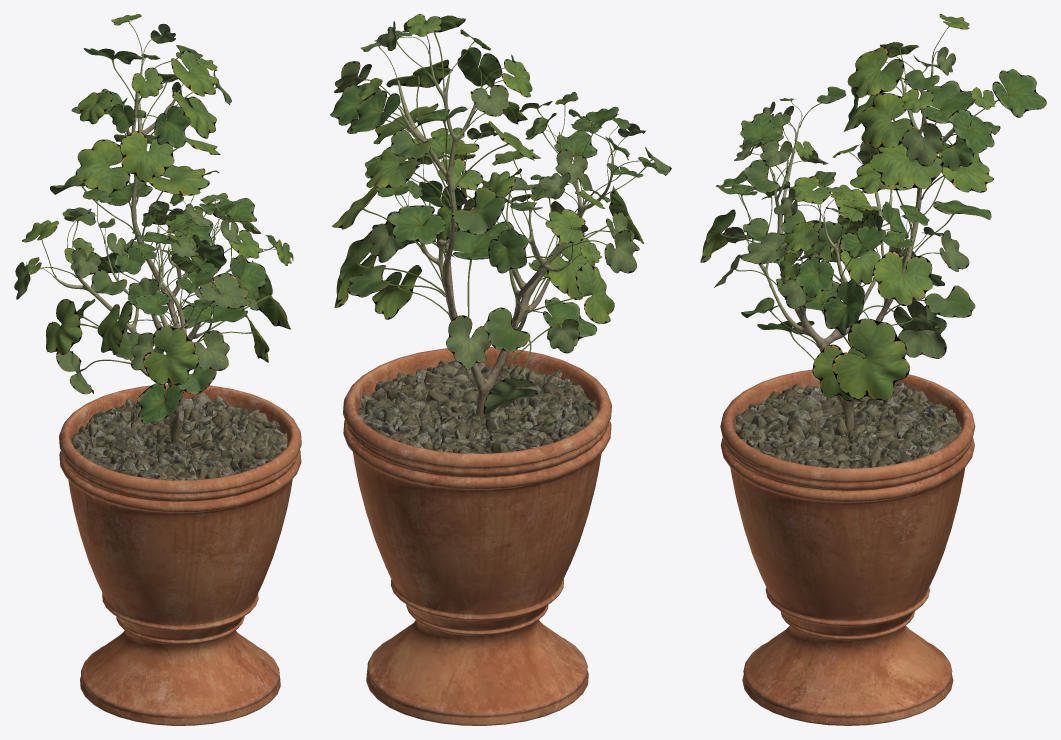
Rendered from nature-ph-potted-plant-large.glb.
The picture shows the model from 3 angles, left to right: view 1: azimuth 30°, elevation 25°; view 2: azimuth 150°, elevation 25°; view 3: azimuth 270°, elevation 25°; orthographic projection. The views are drawn at different scales.
Visible parts, largest first — view 1: potted_plant_01_pot, potted_plant_01_leaves, potted_plant_01_pebbles, potted_plant_01_stem; view 2: potted_plant_01_pot, potted_plant_01_leaves, potted_plant_01_pebbles, potted_plant_01_stem; view 3: potted_plant_01_pot, potted_plant_01_leaves, potted_plant_01_pebbles, potted_plant_01_stem.
Part boxes in pixels (<box>): potted_plant_01_pot: <box>59,384,301,725</box>; potted_plant_01_leaves: <box>14,14,293,423</box>; potted_plant_01_pebbles: <box>71,392,287,480</box>; potted_plant_01_stem: <box>53,54,244,443</box>; potted_plant_01_pot: <box>343,347,611,725</box>; potted_plant_01_leaves: <box>330,14,671,414</box>; potted_plant_01_pebbles: <box>358,360,597,453</box>; potted_plant_01_stem: <box>397,49,612,420</box>; potted_plant_01_pot: <box>720,369,975,725</box>; potted_plant_01_leaves: <box>700,14,1046,401</box>; potted_plant_01_pebbles: <box>735,382,961,468</box>; potted_plant_01_stem: <box>751,55,966,431</box>.
Size of the model in its own units: 0.5874 by 1.34 by 0.6336.
2 materials, 2 textured.
